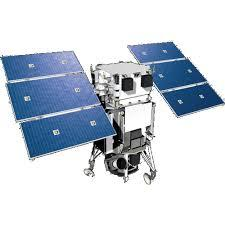antenna: (142, 165, 158, 185), (83, 161, 95, 179), (123, 170, 129, 184), (89, 61, 94, 74)
body: (89, 61, 156, 178)
solar: (19, 105, 117, 161), (4, 73, 101, 122), (0, 50, 85, 81), (159, 82, 224, 118), (143, 59, 207, 94), (127, 41, 186, 65)
